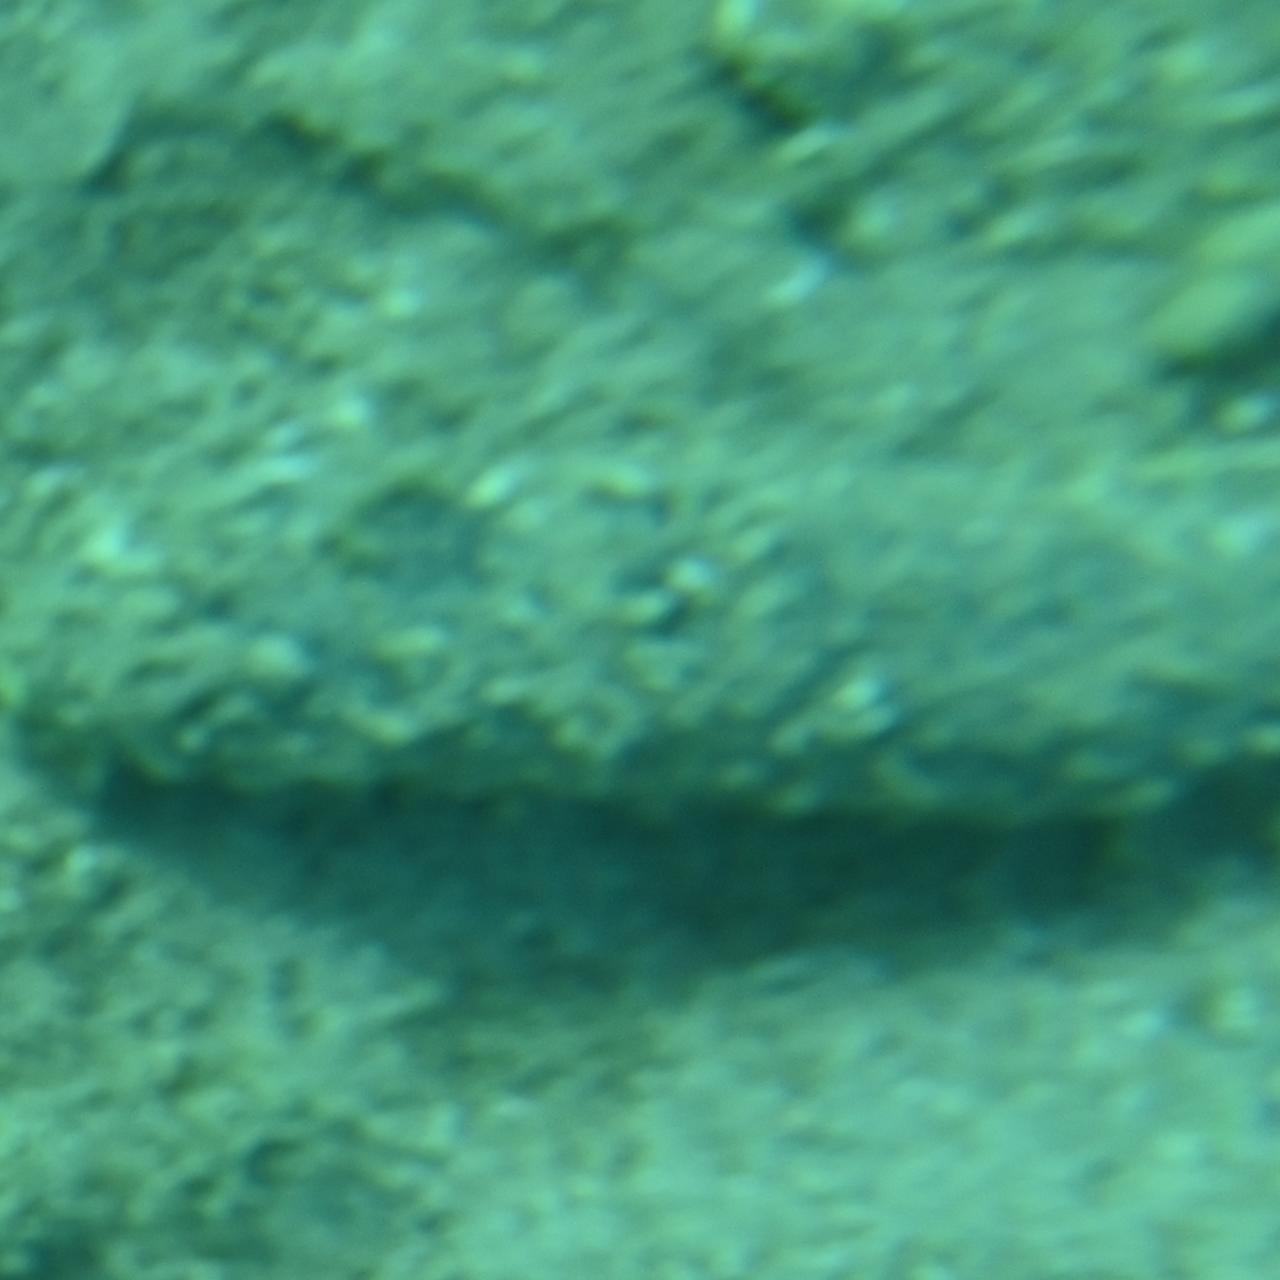Holothuria tubulosa: (0, 446, 1280, 834)
